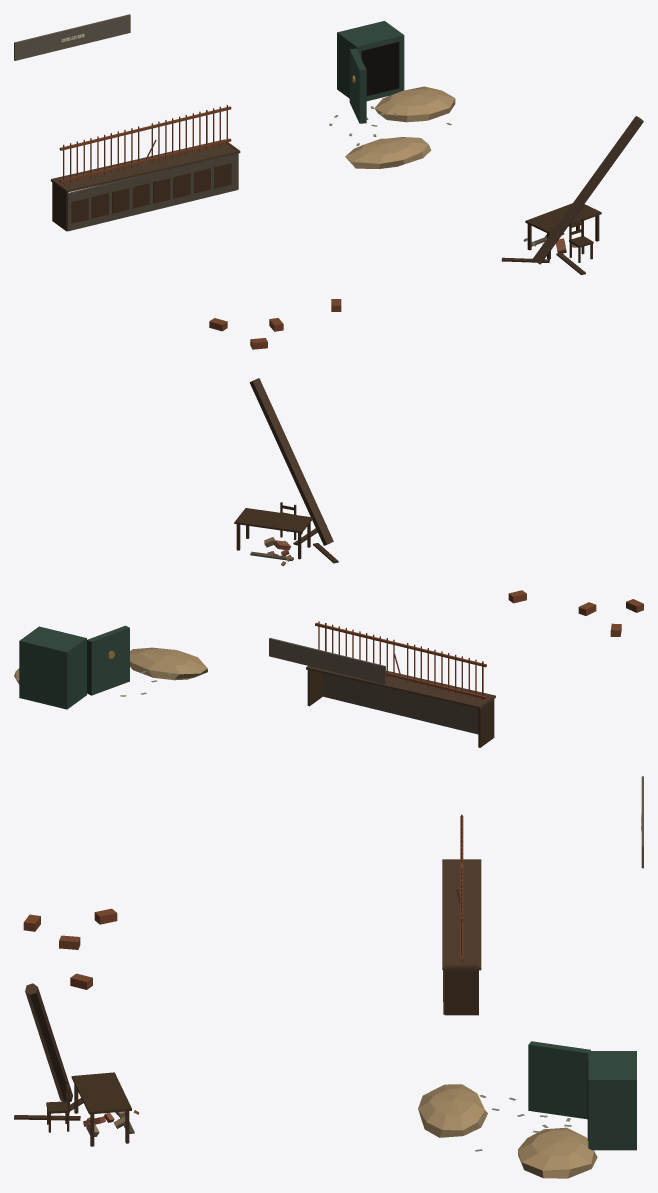
Rendered from TownRoom_bank.glb.
3 renders of one model, top to bottom at view 1: azimuth 30°, elevation 25°; view 2: azimuth 150°, elevation 25°; view 3: azimuth 270°, elevation 25°, orthographic. The views are drawn at different scales.
Parts seen in each view (by area): view 1: TownRoom_bank.001; view 2: TownRoom_bank.001; view 3: TownRoom_bank.001.
Part boxes in pixels (<box>): TownRoom_bank.001: <box>14,14,643,349</box>; TownRoom_bank.001: <box>14,378,643,747</box>; TownRoom_bank.001: <box>14,776,643,1178</box>.
Bounding box in the file's own units: 12.63 × 4.26 × 12.95.
